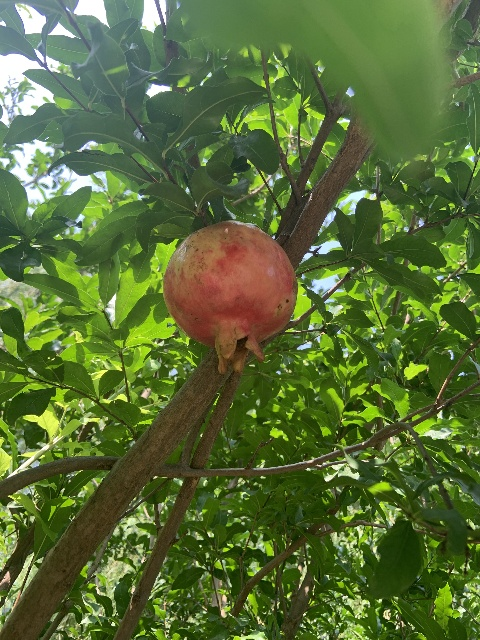ripe: (162, 222, 296, 376)
